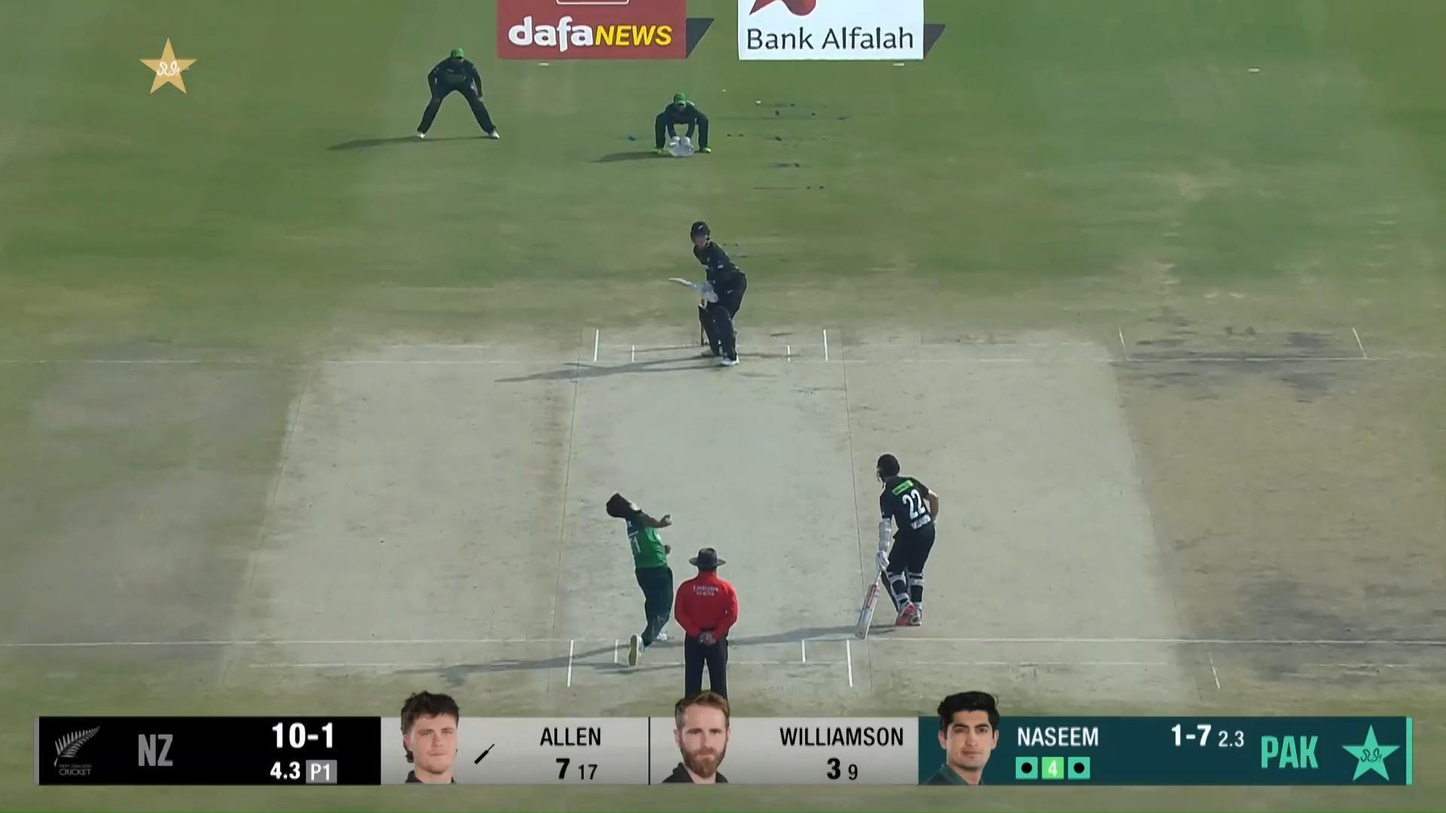BM 1: (670, 221, 747, 365)
BO: (605, 491, 675, 668)
